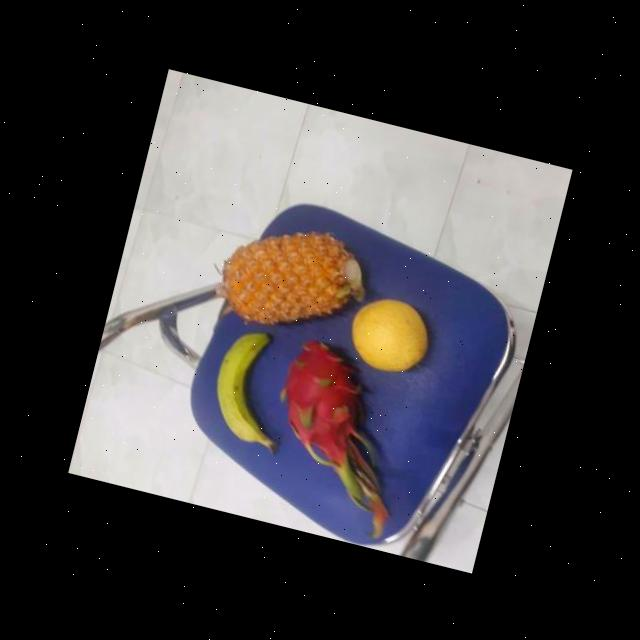banana: (202, 321, 300, 450)
pear: (345, 287, 437, 380)
pineapple: (212, 208, 376, 344)
pitaya: (267, 327, 388, 468)
